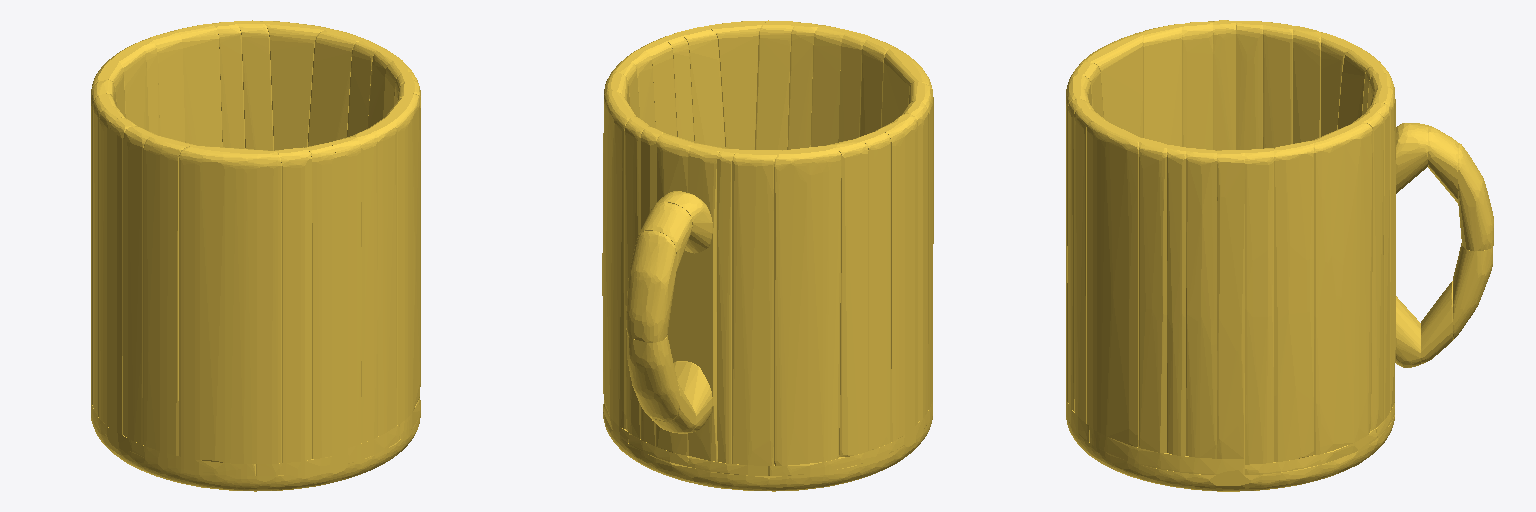
robot.urdf — 290.urdf:
<?xml version="1.0" ?>
<robot name="290.urdf">
	<link name="baseLink">
		<inertial>
			<origin rpy="0 0 0" xyz="0 0 0"/>
				<mass value="0.1"/>
				<inertia ixx="6e-5" ixy="0" ixz="0" iyy="6e-5" iyz="0" izz="6e-5"/>
		</inertial>
		<visual>
			<origin rpy="0 0 0" xyz="0 0 0"/>
			<geometry>
				<mesh filename="31_decom_wt.obj" scale="1.03 1.03 1.07"/>
			</geometry>
			<material name="yellow">
				<color rgba="0.98 0.84 0.35 1"/>
			</material>
		</visual>
		<collision>
			<origin rpy="0 0 0" xyz="0 0 0"/>
			<geometry>
				<mesh filename="31_decom_wt.obj" scale="1.03 1.03 1.07"/>
			</geometry>
		</collision>
	</link>
</robot>

--- What the picture shows (computed from the rendered views, not written in the file) ---
Views: 3 orthographic renders of the robot side by side, from view 1: azimuth 30°, elevation 25°; view 2: azimuth 150°, elevation 25°; view 3: azimuth 270°, elevation 25°.
Model 290.urdf with 1 links and 0 joints (none), rooted at baseLink, posed all joints at 0.
Links seen in each view (by area): view 1: baseLink; view 2: baseLink; view 3: baseLink.
Link boxes in pixels (bbox=[...]): baseLink: bbox=[91, 20, 420, 491]; baseLink: bbox=[602, 20, 933, 491]; baseLink: bbox=[1066, 20, 1493, 491].
Size in the robot's own frame: 0.1218 by 0.1584 by 0.139 metres.
1 mesh visuals loaded from 1 distinct referenced files (1 OBJ).